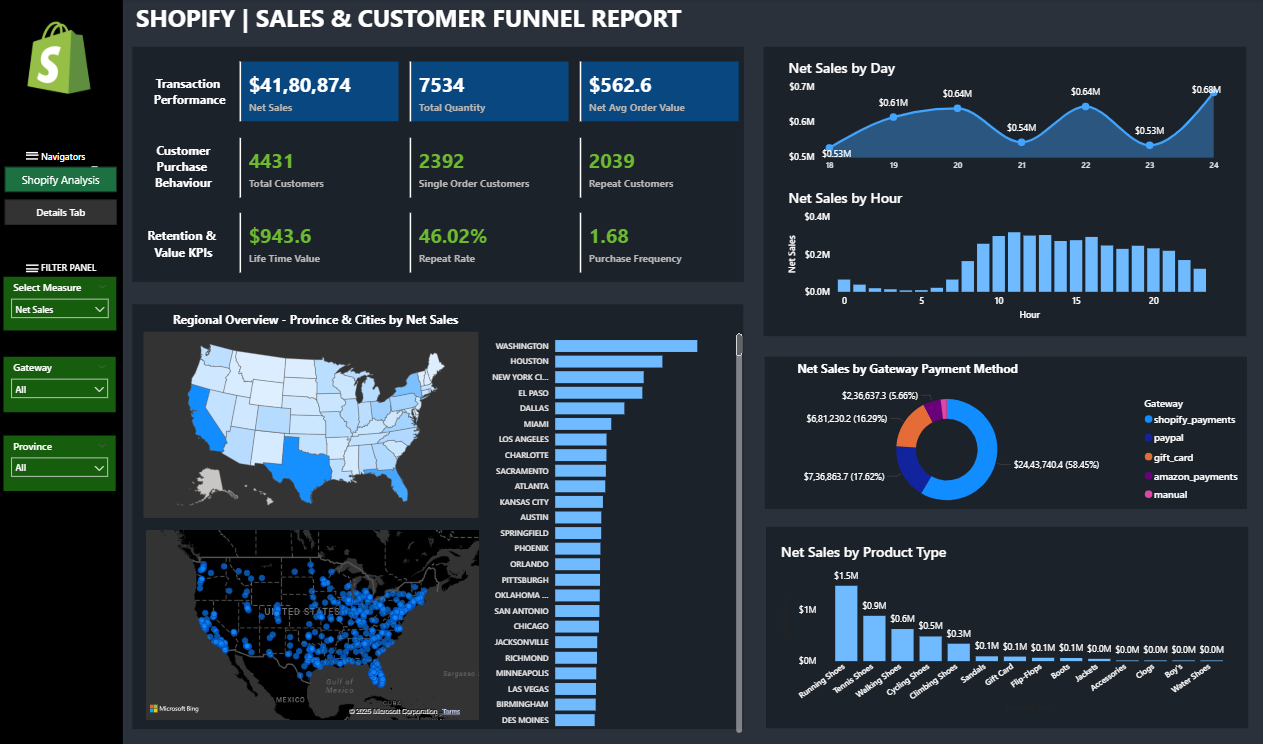

The dashboard page shown, as its layout file describes it:
{"tool":"powerbi","page":{"name":"Shopify Analysis","canvas":[1700,1000],"ordinal":0},"visuals":[{"type":"shape","box":[0,0,170,1000.5],"z":0},{"type":"textbox","box":[182.2,0,791,54.7],"z":1000},{"type":"shape","box":[182.2,65.6,820.1,315.3],"z":2000},{"type":"cardVisual","fields":{"Data":["shopify_sales.Net Sales","shopify_sales.Total Quantity","shopify_sales.Net Avg Order Value"]},"box":[321.2,80.8,680.9,90.4],"z":3000},{"type":"card","fields":{"Values":["shopify_sales.Transaction Perf"]},"box":[197.7,65.3,124,119],"z":4000},{"type":"cardVisual","fields":{"Data":["shopify_sales.Total Customers","shopify_sales.Single Order Customers","shopify_sales.Repeat Customers"]},"box":[321.2,182,680.9,90.4],"z":5000},{"type":"card","fields":{"Values":["shopify_sales.Customer Purchase Behaviour"]},"box":[182.6,162.5,137.4,119],"z":6000},{"type":"cardVisual","fields":{"Data":["shopify_sales.Life Time Value","shopify_sales.Repeat Rate","shopify_sales.Purchase Frequency"]},"box":[321.7,283.2,680.3,90.5],"z":7000},{"type":"card","fields":{"Values":["shopify_sales.Retention & Value KPIs"]},"box":[182.6,269.8,137.4,119],"z":8000},{"type":"shape","box":[182.6,410.5,819.4,569.7],"z":9000},{"type":"slicer","fields":{"Values":["Select Measure.Select Measure"]},"box":[10.1,373.7,150.8,72.1],"z":10000},{"type":"map","fields":{"Category":["shopify_sales.location"]},"box":[196,708.8,455.8,263.1],"z":11000},{"type":"clusteredBarChart","fields":{"Y":["shopify_sales.Net Sales"],"Category":["shopify_sales.CITY"]},"box":[646.8,437.3,358.6,553],"z":13000},{"type":"card","fields":{"Values":["shopify_sales.MAP TITLE"]},"box":[162.1,418.8,531.9,28.7],"z":14000},{"type":"shape","box":[1029.4,64.7,647.1,388.2],"z":15000},{"type":"areaChart","fields":{"Y":["shopify_sales.Net Sales"],"Category":["shopify_sales.Invoice Date.Variation.Date Hierarchy.Day"]},"box":[1056.9,80.4,590.2,160.8],"z":16000},{"type":"columnChart","fields":{"Y":["shopify_sales.Net Sales"],"Category":["shopify_sales.Hour"]},"box":[1057,255,591,182.4],"z":17000},{"type":"shape","box":[1030,481.2,646.7,204.3],"z":18000},{"type":"donutChart","title":"Net Sales by Gateway","fields":{"Y":["shopify_sales.Net Sales"],"Category":["shopify_sales.Gateway"]},"box":[1004.7,515,673.7,182.4],"z":19000},{"type":"shape","box":[1031.7,709.2,646.7,270.2],"z":20000},{"type":"columnChart","fields":{"Y":["shopify_sales.Net Sales"],"Category":["shopify_sales.Product Type"]},"box":[1046.9,729.4,618,233],"z":21000},{"type":"image","box":[28.7,27,111.4,106.4],"z":22000},{"type":"slicer","fields":{"Values":["shopify_sales.Gateway"]},"box":[10.1,481.2,150.3,74.3],"z":23000},{"type":"slicer","fields":{"Values":["shopify_sales.Billing Address Province"]},"box":[10.1,585.9,150.3,74.3],"z":24000},{"type":"pageNavigator","box":[11.3,226.4,150.9,79.2],"z":25000},{"type":"textbox","title":"Navigators","box":[55.7,204.3,86.1,27],"z":26000},{"type":"shape","box":[40,209.6,16.3,12.6],"z":27000},{"type":"shape","box":[40,200.7,16.3,12.6],"z":28000},{"type":"shape","box":[40,205,16.7,12.5],"z":29000},{"type":"textbox","title":"FILTER PANEL","box":[55.9,354.1,85.9,18.8],"z":30000},{"type":"shape","box":[40,360.9,16.4,12.7],"z":31000},{"type":"shape","box":[40,352.5,16.7,12.5],"z":32000},{"type":"shape","box":[40,356.7,16.7,12.5],"z":33000},{"type":"shapeMap","fields":{"Category":["shopify_sales.Billing Address Province"],"Value":["shopify_sales.Net Sales"]},"box":[197.6,447.5,449.1,249.9],"z":33001},{"type":"card","fields":{"Values":["shopify_sales.Gateway Title"]},"box":[1030,482.9,383.3,32.1],"z":33002}]}

Visuals, with their boxes on the page's 1700x1000 design canvas (x1, y1, x2, y2). These are canvas units, not pixel positions in the 1263x744 screenshot, which may show the page scaled, cropped or inside an application window:
shape: bbox=(0, 0, 170, 1000)
textbox: bbox=(182, 0, 973, 55)
shape: bbox=(182, 66, 1002, 381)
cardVisual - shopify_sales.Net Sales x shopify_sales.Total Quantity: bbox=(321, 81, 1002, 171)
card - shopify_sales.Transaction Perf: bbox=(198, 65, 322, 184)
cardVisual - shopify_sales.Total Customers x shopify_sales.Single Order Customers: bbox=(321, 182, 1002, 272)
card - shopify_sales.Customer Purchase Behaviour: bbox=(183, 162, 320, 282)
cardVisual - shopify_sales.Life Time Value x shopify_sales.Repeat Rate: bbox=(322, 283, 1002, 374)
card - shopify_sales.Retention & Value KPIs: bbox=(183, 270, 320, 389)
shape: bbox=(183, 410, 1002, 980)
slicer - Select Measure.Select Measure: bbox=(10, 374, 161, 446)
map - shopify_sales.location: bbox=(196, 709, 652, 972)
clusteredBarChart - shopify_sales.Net Sales x shopify_sales.CITY: bbox=(647, 437, 1005, 990)
card - shopify_sales.MAP TITLE: bbox=(162, 419, 694, 448)
shape: bbox=(1029, 65, 1676, 453)
areaChart - shopify_sales.Net Sales x shopify_sales.Invoice Date.Variation.Date Hierarchy.Day: bbox=(1057, 80, 1647, 241)
columnChart - shopify_sales.Net Sales x shopify_sales.Hour: bbox=(1057, 255, 1648, 437)
shape: bbox=(1030, 481, 1677, 686)
"Net Sales by Gateway" donutChart: bbox=(1005, 515, 1678, 697)
shape: bbox=(1032, 709, 1678, 979)
columnChart - shopify_sales.Net Sales x shopify_sales.Product Type: bbox=(1047, 729, 1665, 962)
image: bbox=(29, 27, 140, 133)
slicer - shopify_sales.Gateway: bbox=(10, 481, 160, 556)
slicer - shopify_sales.Billing Address Province: bbox=(10, 586, 160, 660)
pageNavigator: bbox=(11, 226, 162, 306)
"Navigators" textbox: bbox=(56, 204, 142, 231)
shape: bbox=(40, 210, 56, 222)
shape: bbox=(40, 201, 56, 213)
shape: bbox=(40, 205, 57, 218)
"FILTER PANEL" textbox: bbox=(56, 354, 142, 373)
shape: bbox=(40, 361, 56, 374)
shape: bbox=(40, 352, 57, 365)
shape: bbox=(40, 357, 57, 369)
shapeMap - shopify_sales.Billing Address Province x shopify_sales.Net Sales: bbox=(198, 448, 647, 697)
card - shopify_sales.Gateway Title: bbox=(1030, 483, 1413, 515)
